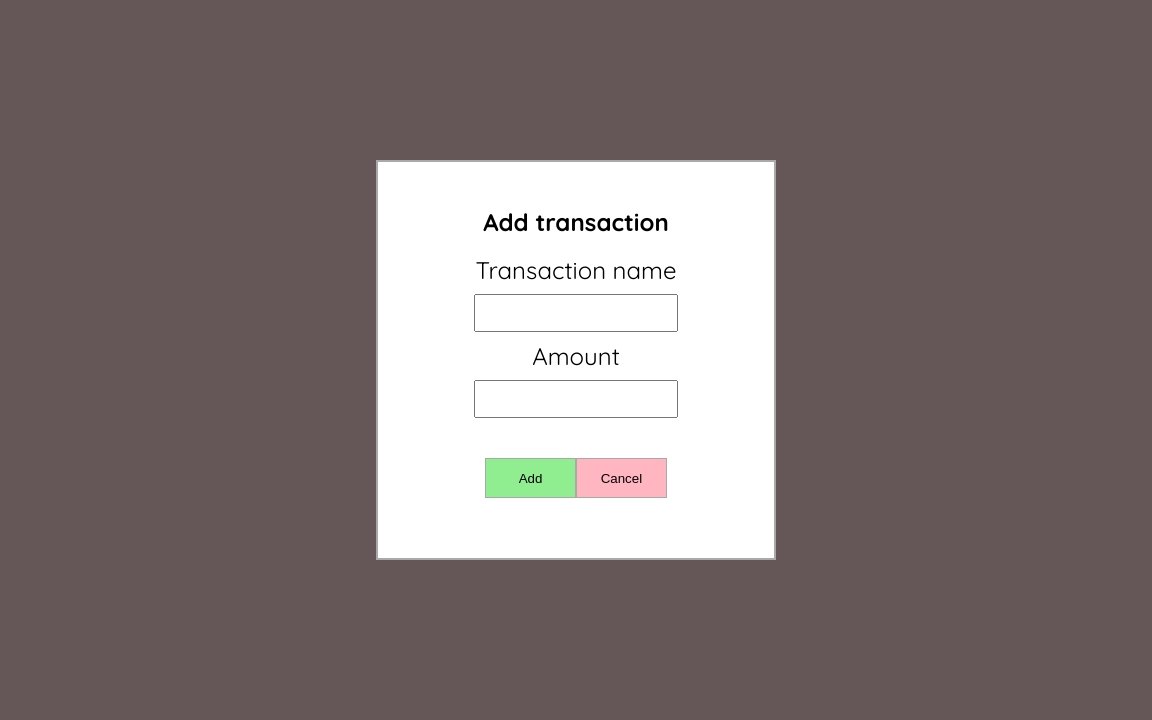
should the error message show or hide if transaction name is passed or not
Click the button with test id "submit-button" at (531, 478), box [485,458,576,498]
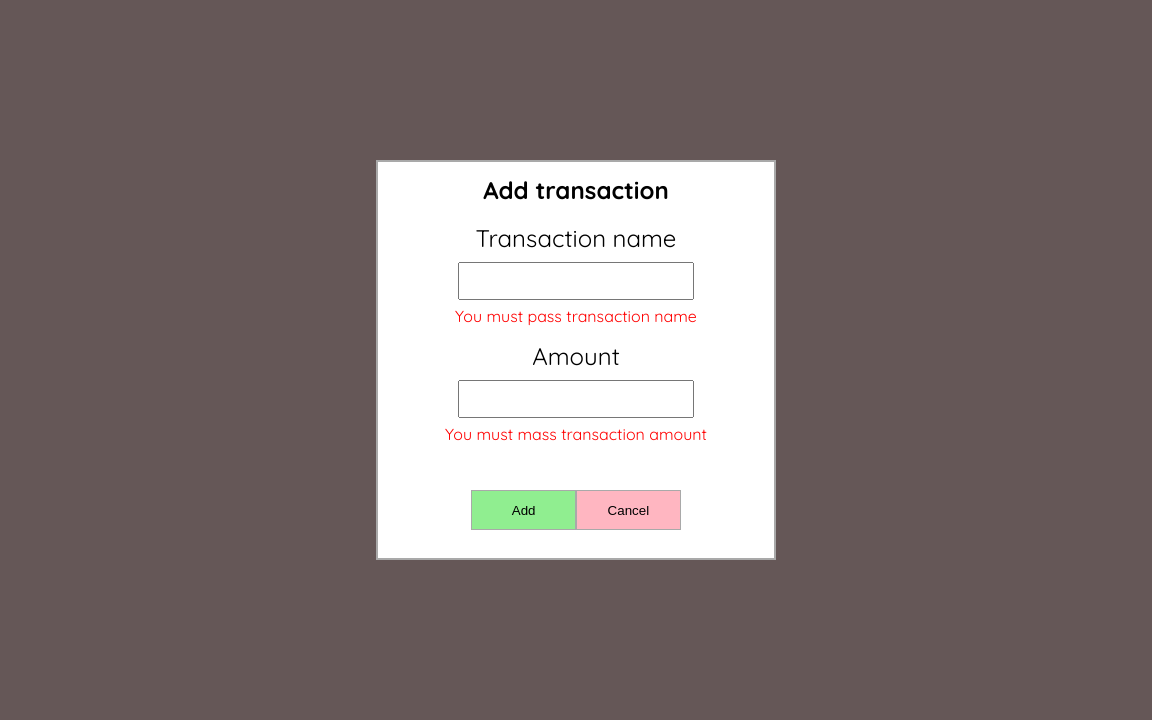
Expected: the text with test id "transaction-error-text" reads "You must pass transaction name", [455,306,697,326]
Type "transaction1" into the field with test id "transaction-input" at (576, 281), box [458,262,694,300]
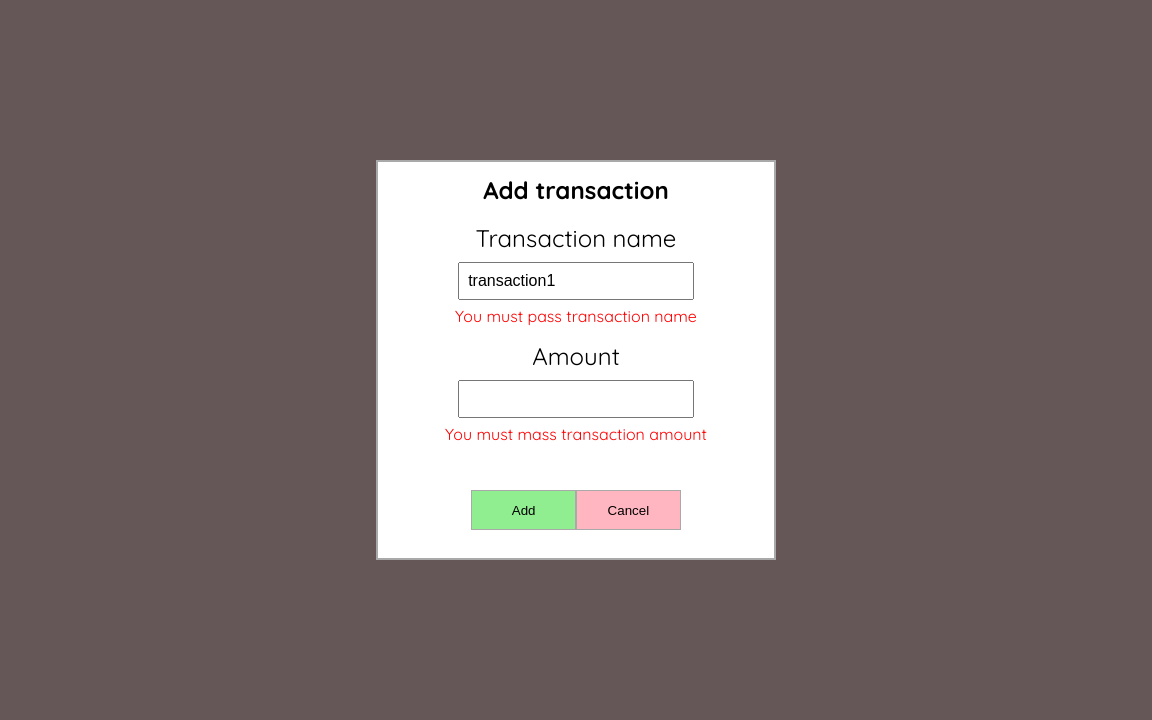
Click the button with test id "submit-button" at (524, 510), box [471,490,576,530]
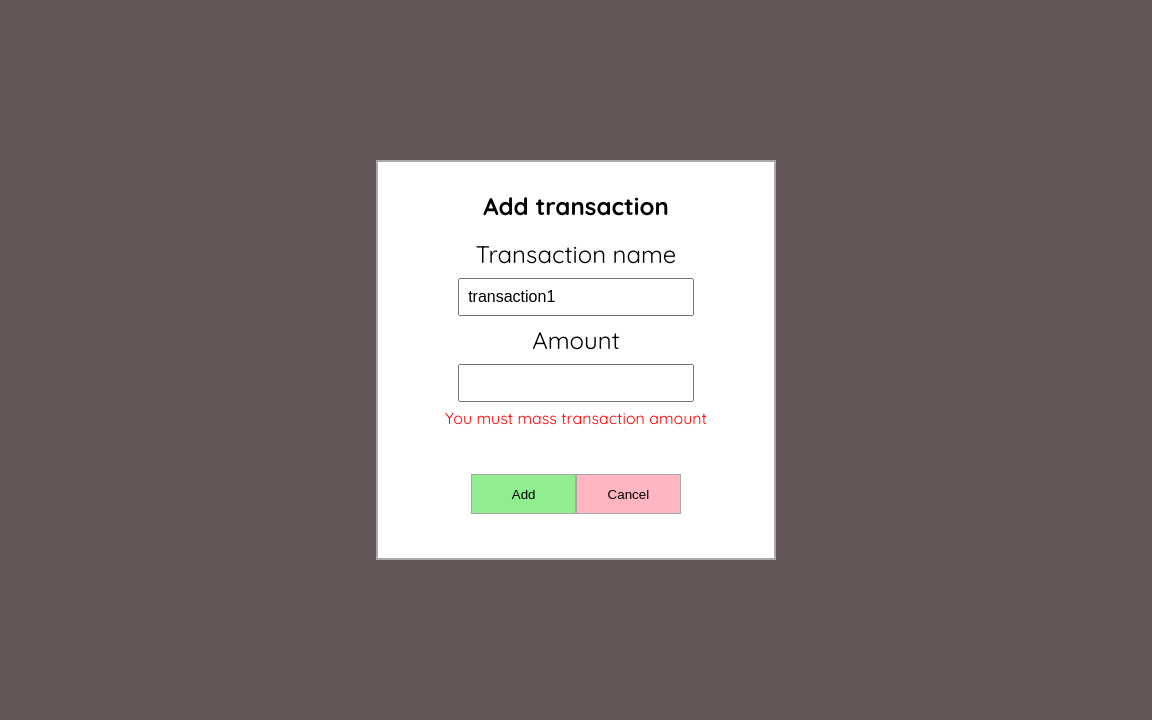
Expected: the text with test id "transaction-error-text" is gone
